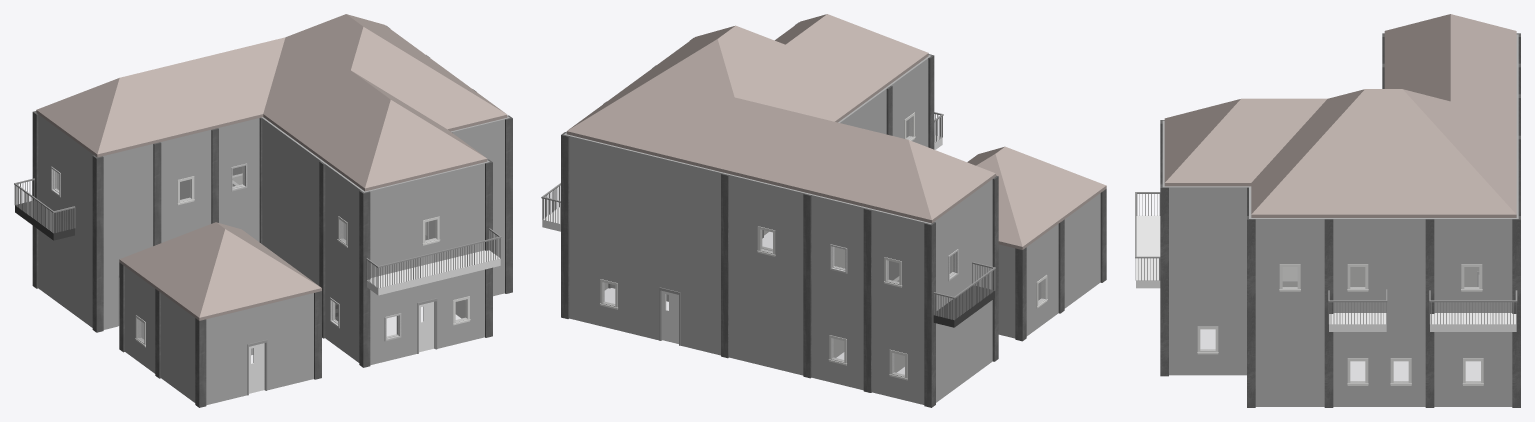
File: Lumion file.dae
3 views of the same model, side by side, from view 1: azimuth 30°, elevation 25°; view 2: azimuth 150°, elevation 25°; view 3: azimuth 270°, elevation 25° (orthographic). The views are drawn at different scales.
Visible parts, largest first — view 1: geometry-lumion-model (×11); view 2: geometry-lumion-model (×9); view 3: geometry-lumion-model (×7).
Part boxes in pixels (bbox=[...]): geometry-lumion-model (×11): bbox=[14, 14, 512, 407]; geometry-lumion-model (×9): bbox=[541, 14, 1106, 407]; geometry-lumion-model (×7): bbox=[1135, 14, 1520, 407].
Size of the model in its own units: 17.05 by 13.38 by 10.29.
